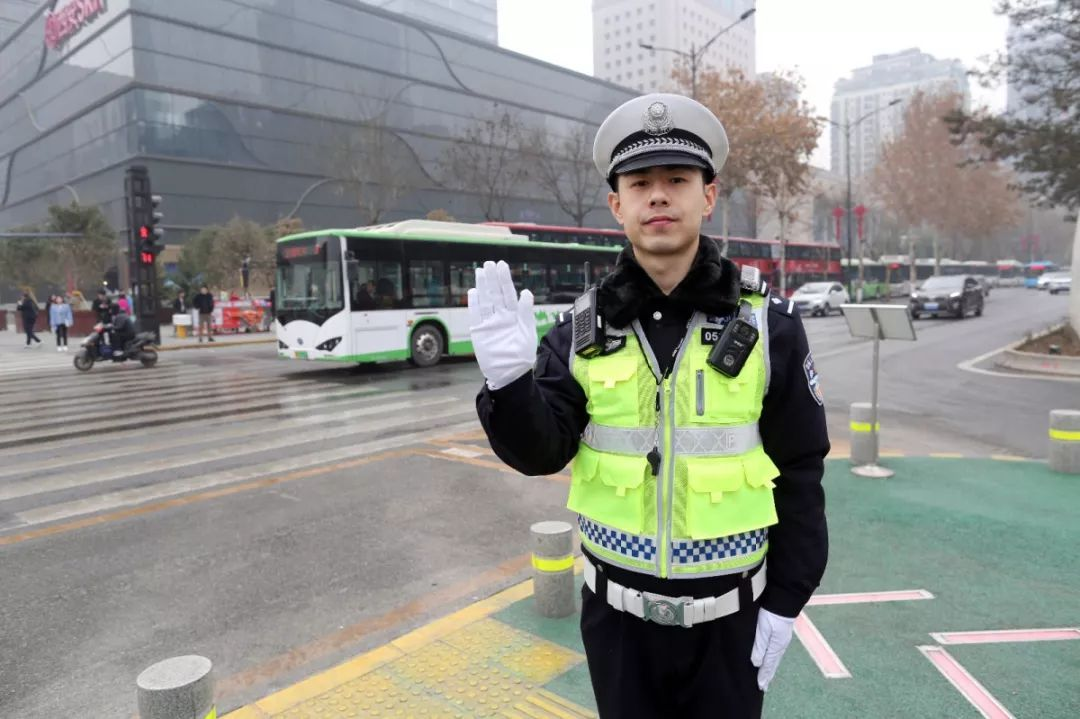hand: (466, 257, 538, 380)
